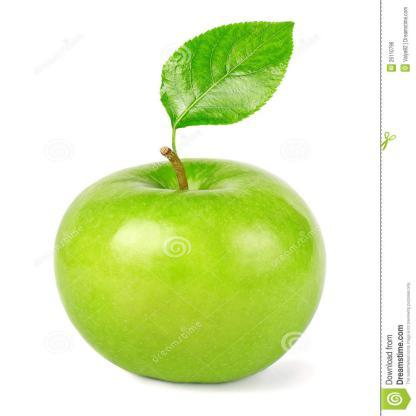Apple leaf: (153, 15, 300, 140)
